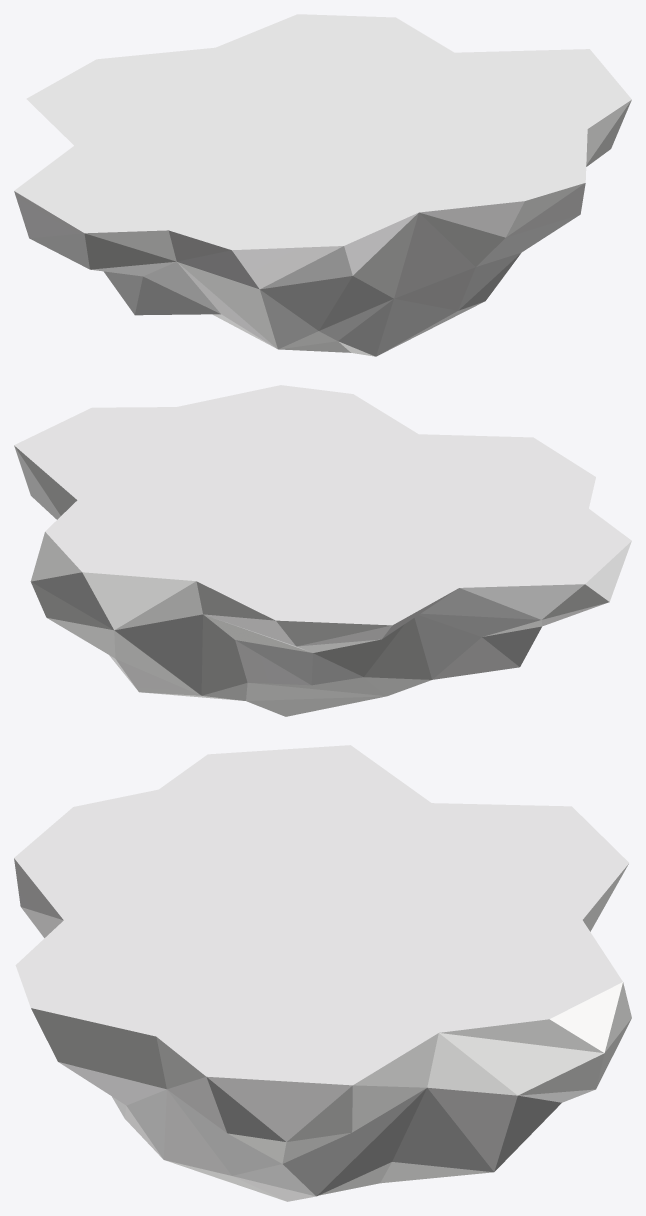
The model's file is oblakoflat1.fbx.
3 views of the same model, one above another, from view 1: azimuth 30°, elevation 25°; view 2: azimuth 150°, elevation 25°; view 3: azimuth 270°, elevation 25° (orthographic). The views are drawn at different scales.
Visible parts, largest first — view 1: Mball.001; view 2: Mball.001; view 3: Mball.001.
Boxes of the visible parts, x1,y1,x2,y2 form: Mball.001: (14, 14, 631, 356); Mball.001: (14, 385, 631, 716); Mball.001: (14, 745, 631, 1201).
Bounding box in the file's own units: 1120 × 400 × 851.
